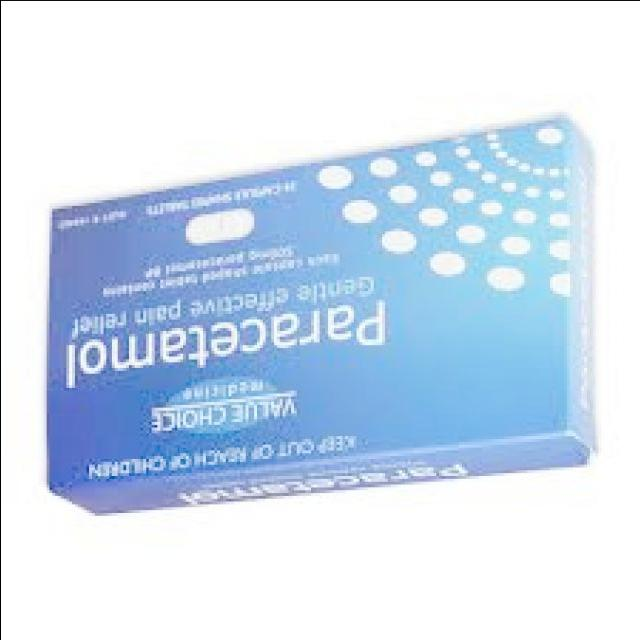authentic: (39, 116, 611, 523)
